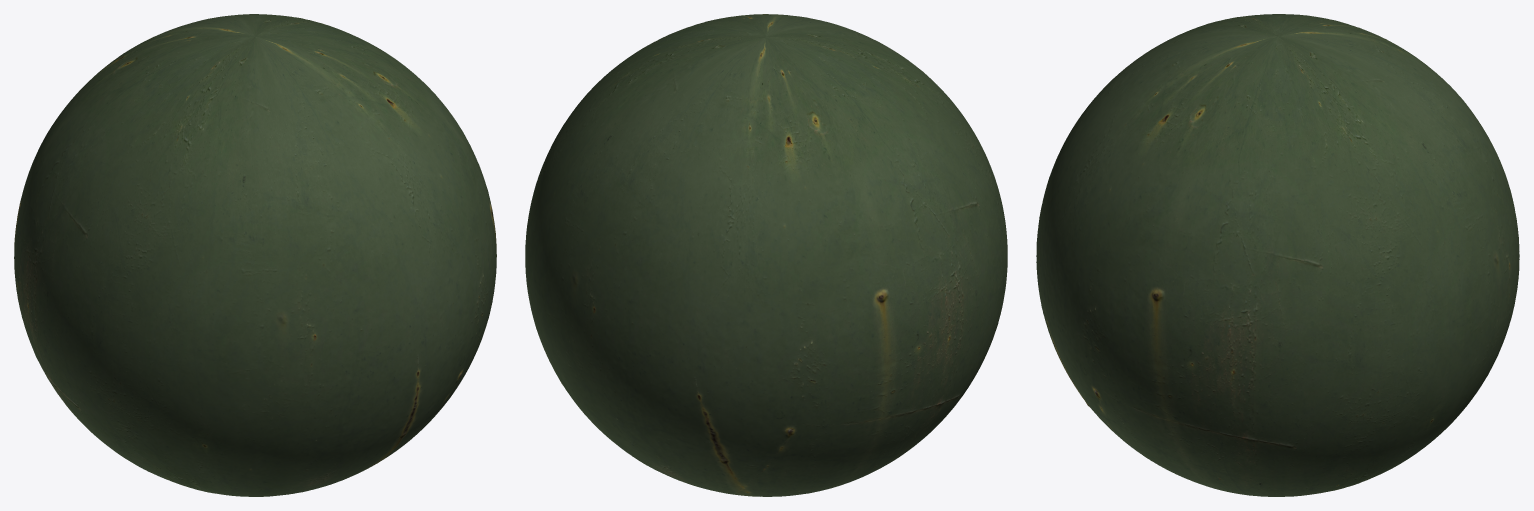
The model's file is green_metal_rust_2k.gltf.
The picture shows the model from 3 angles, left to right: view 1: azimuth 30°, elevation 25°; view 2: azimuth 150°, elevation 25°; view 3: azimuth 270°, elevation 25°; orthographic projection.
Visible parts, largest first — view 1: sphere_gltf.001; view 2: sphere_gltf.001; view 3: sphere_gltf.001.
Boxes of the visible parts, box(x1,y1,x2,y2) form: sphere_gltf.001: box(14, 14, 496, 496); sphere_gltf.001: box(525, 14, 1007, 496); sphere_gltf.001: box(1036, 14, 1519, 496).
Size of the model in its own units: 1 by 1 by 0.9998.
Materials: 1 (1 with a texture image).
